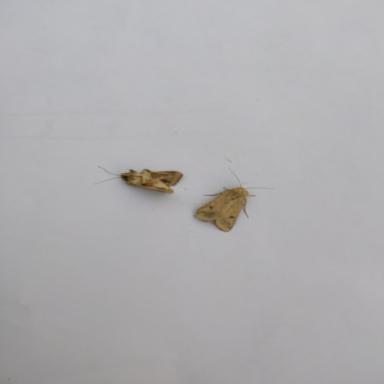abw: (192, 167, 276, 233), (92, 164, 184, 195)
